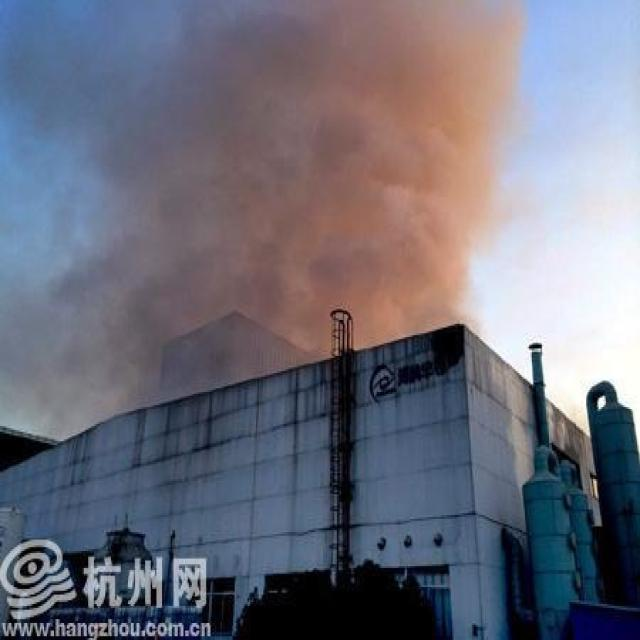Smoke: (0, 0, 542, 434)
